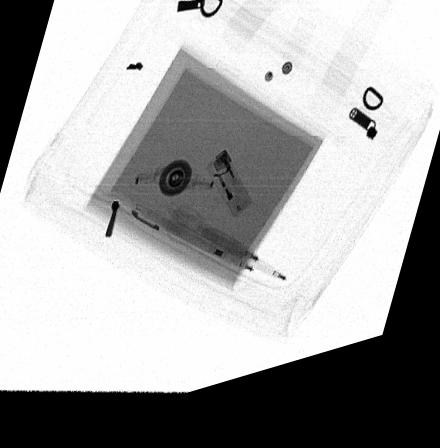Lighter: (205, 163, 253, 231)
